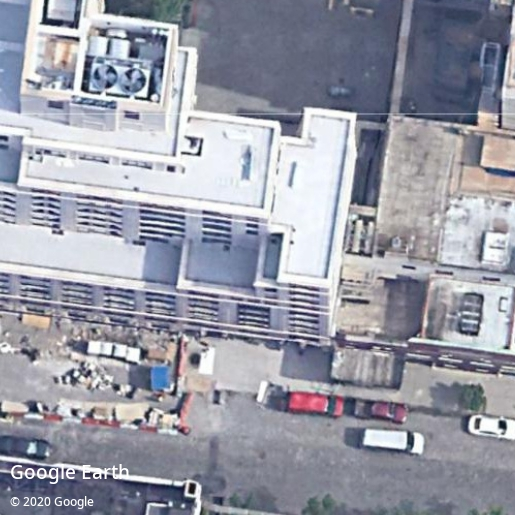Vent: (119, 68, 146, 94), (93, 64, 118, 89)
